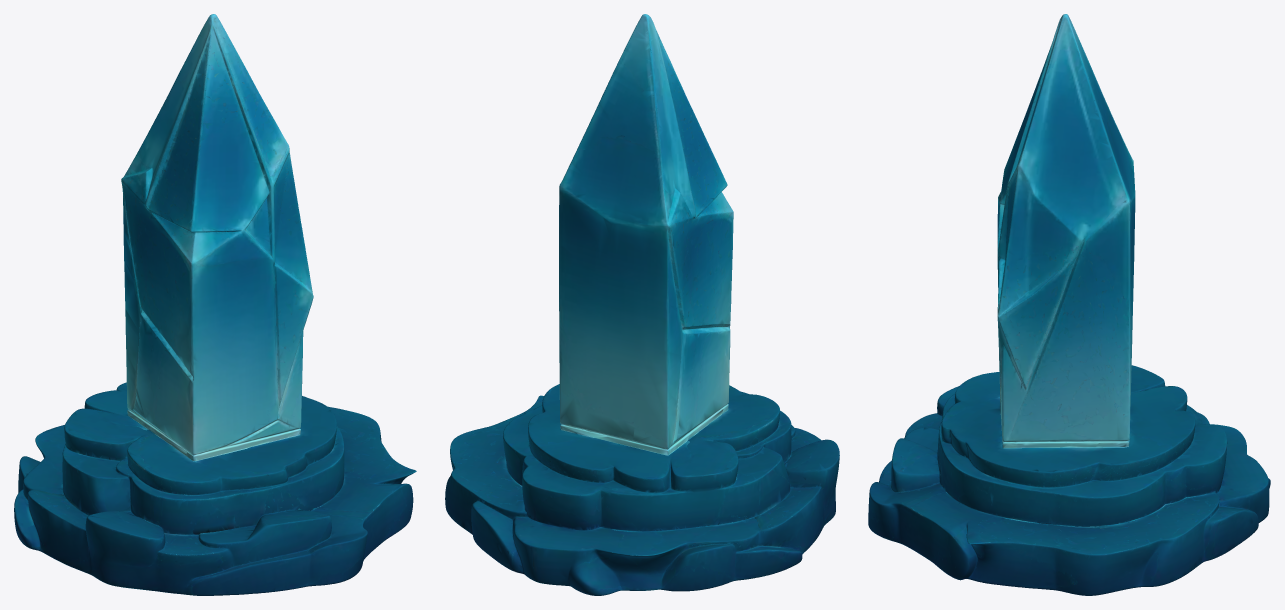
File: planet-icon.glb
3 views of the same model, side by side, from view 1: azimuth 30°, elevation 25°; view 2: azimuth 150°, elevation 25°; view 3: azimuth 270°, elevation 25° (orthographic).
Visible parts, largest first — view 1: texture_pbr_v128; view 2: texture_pbr_v128; view 3: texture_pbr_v128.
Part boxes in pixels (left/top/right/bottom): texture_pbr_v128: left=14, top=14, right=416, bottom=595; texture_pbr_v128: left=445, top=14, right=839, bottom=595; texture_pbr_v128: left=868, top=14, right=1270, bottom=595.
Bounding box in the file's own units: 0.705 × 0.9654 × 0.7075.
1 material, 1 textured.
